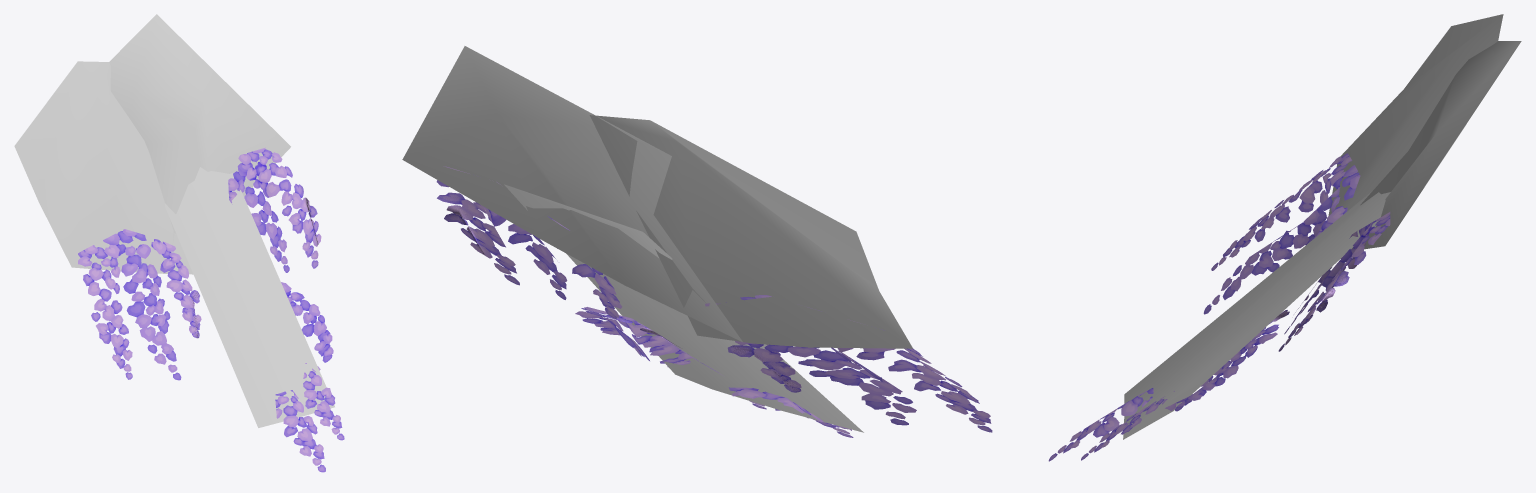
The model's file is SM_Env_Vines_Preset_Roof_Concave_01.fbx.
3 renders of one model, left to right at view 1: azimuth 30°, elevation 25°; view 2: azimuth 150°, elevation 25°; view 3: azimuth 270°, elevation 25°, orthographic. The views are drawn at different scales.
Parts seen in each view (by area): view 1: SM_Env_Vines_Preset_Roof_Concave_01; view 2: SM_Env_Vines_Preset_Roof_Concave_01; view 3: SM_Env_Vines_Preset_Roof_Concave_01.
Boxes of the visible parts, box(x1,y1,x2,y2) form: SM_Env_Vines_Preset_Roof_Concave_01: box(14, 14, 344, 472); SM_Env_Vines_Preset_Roof_Concave_01: box(402, 46, 992, 437); SM_Env_Vines_Preset_Roof_Concave_01: box(1048, 14, 1521, 461).
Bounding box in the file's own units: 175 × 209 × 210.
